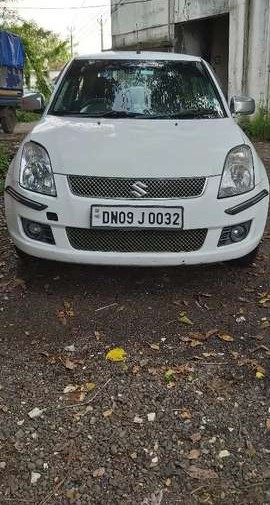DN09J0032: (91, 206, 182, 228)
